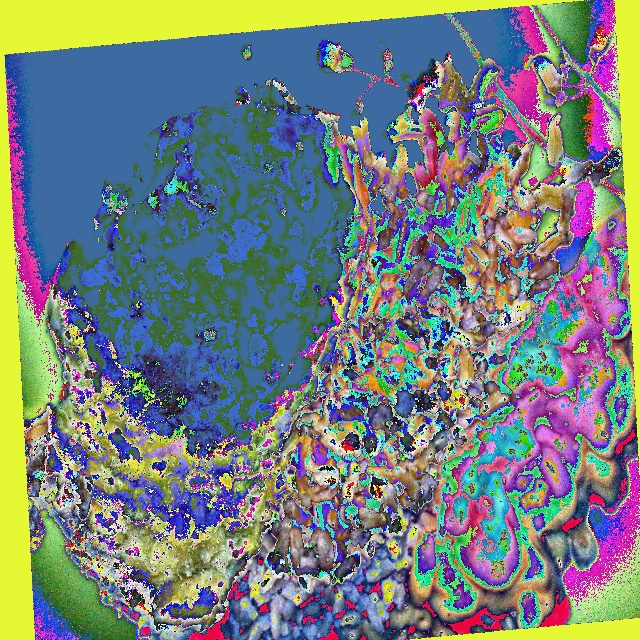background: (24, 51, 638, 639)
